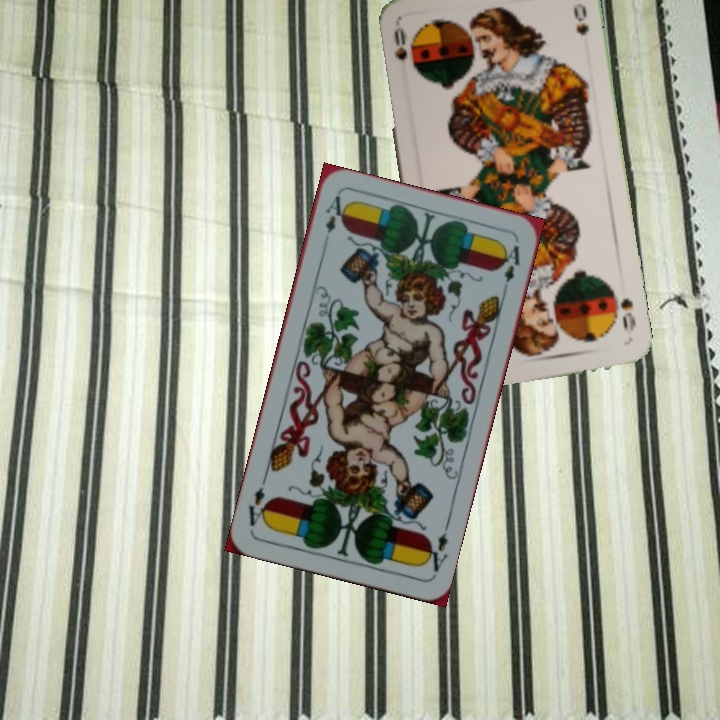EA: (420, 519, 452, 575), (321, 191, 348, 236)
SO: (609, 284, 639, 336), (390, 23, 410, 64)
